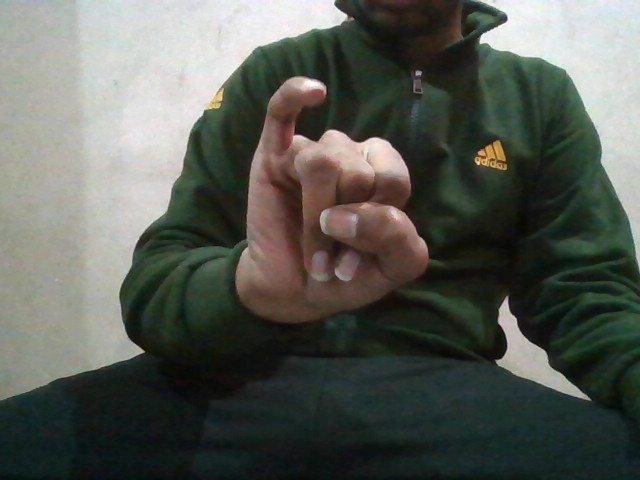J: (248, 71, 428, 327)
